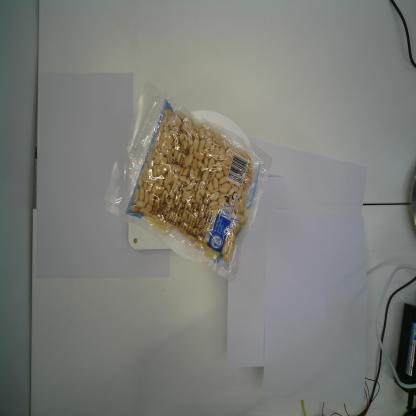Dried Fruit: (104, 78, 272, 284)
